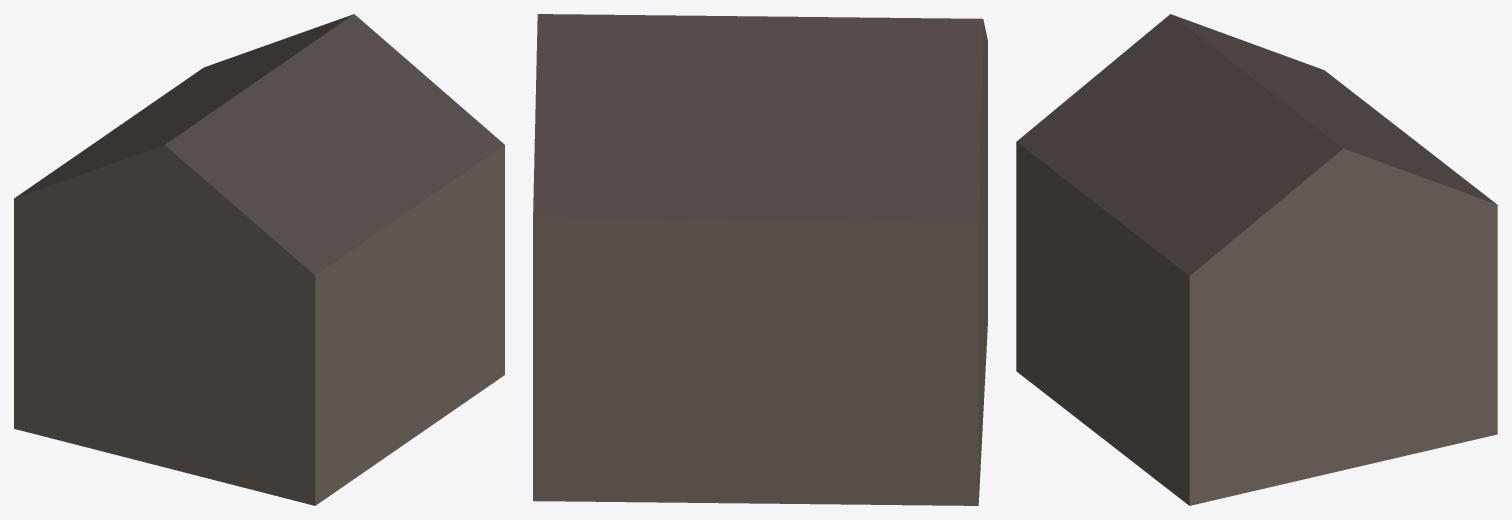
3 views of the same model, side by side, from view 1: azimuth 30°, elevation 25°; view 2: azimuth 150°, elevation 25°; view 3: azimuth 270°, elevation 25° (orthographic). The views are drawn at different scales.
Parts seen in each view (by area): view 1: HP-w859088519; view 2: HP-w859088519; view 3: HP-w859088519.
Part boxes in pixels (x1,y1,x2,y2): HP-w859088519: (14, 14, 504, 505); HP-w859088519: (533, 14, 987, 505); HP-w859088519: (1016, 14, 1497, 505).
Bounding box in the file's own units: 17.3 × 12.6 × 17.07.
